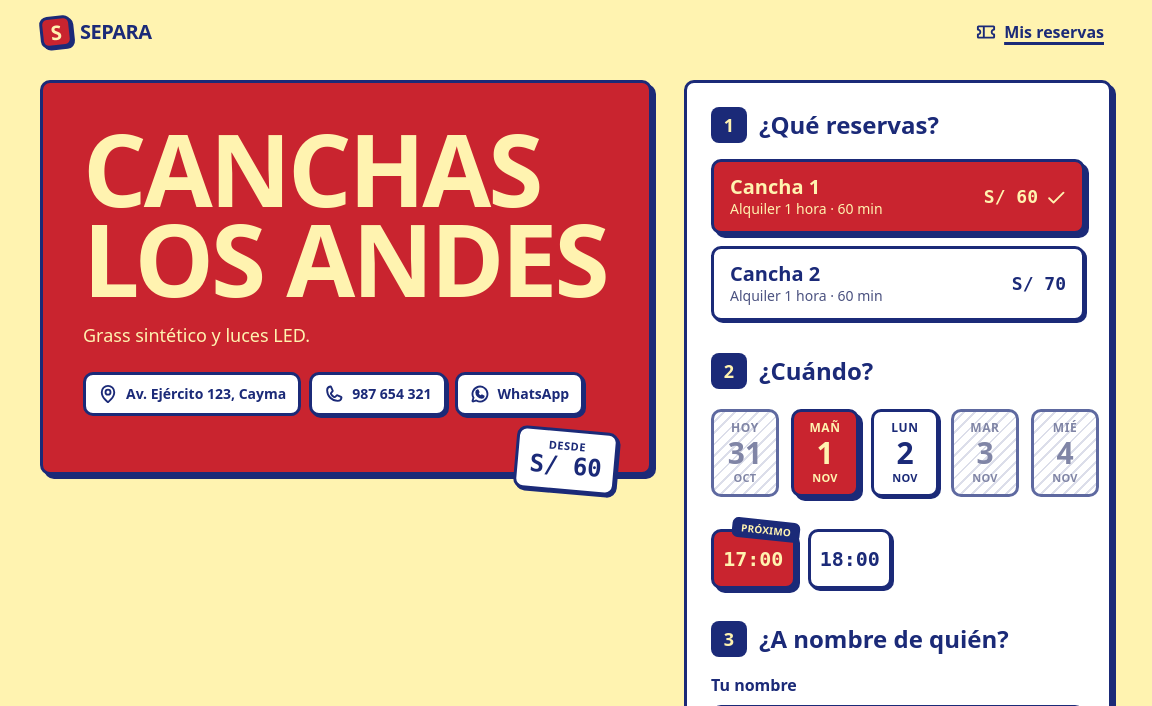
Test: choosing when › lets the customer pick another slot
What coordinates should you click on to do the following:
click the radio button labelled "18:00"
I would click on:
 (850, 559)
Its box is [808, 529, 892, 589].
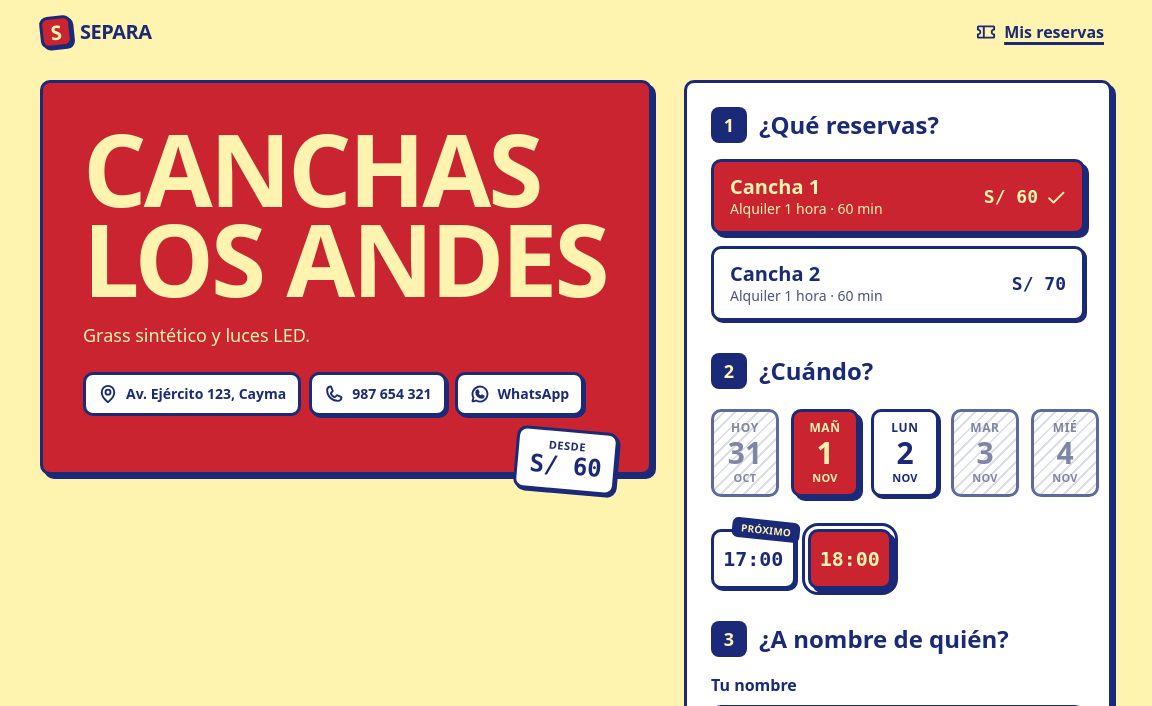
Expected: the radio button labelled "18:00" is checked, [808, 529, 892, 589]
Expected: the radio button with aria-label "17:00, el más cercano" is not checked, [711, 529, 796, 589]
